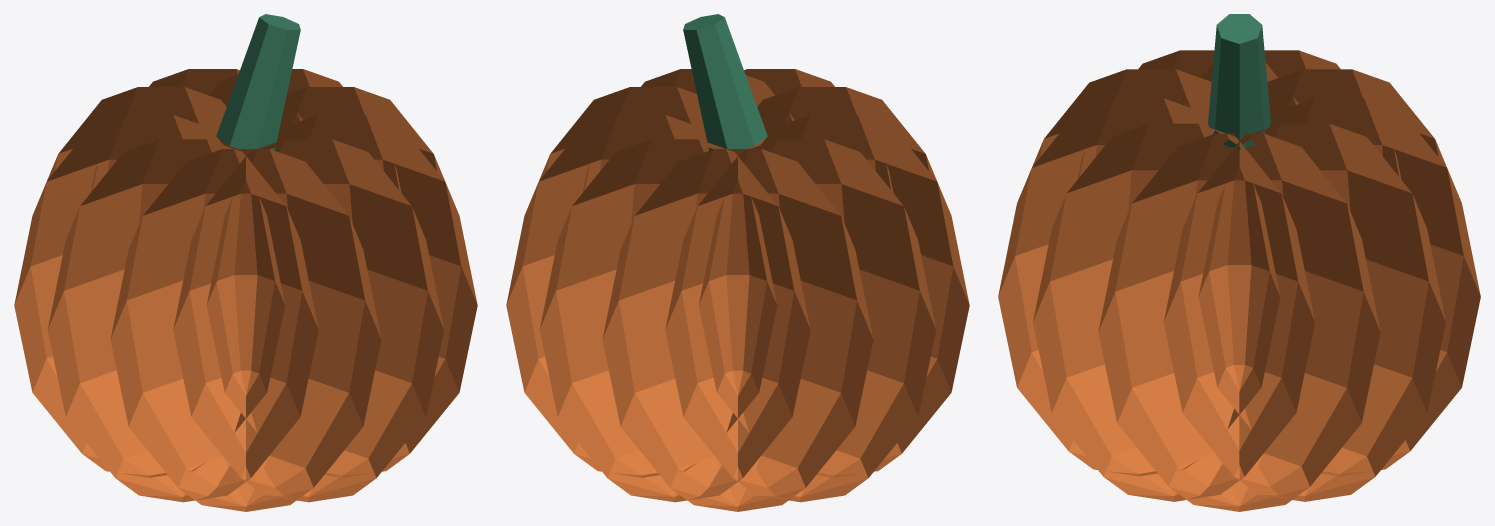
File: turning-seasons-pumpkin-f49cf0ec__2133.glb
3 renders of one model, left to right at view 1: azimuth 30°, elevation 25°; view 2: azimuth 150°, elevation 25°; view 3: azimuth 270°, elevation 25°, orthographic. The views are drawn at different scales.
Parts seen in each view (by area): view 1: pumpkin; view 2: pumpkin; view 3: pumpkin.
Part boxes in pixels (left/top/right/bottom): pumpkin: left=14, top=14, right=477, bottom=511; pumpkin: left=506, top=14, right=969, bottom=511; pumpkin: left=998, top=14, right=1480, bottom=511.
Bounding box in the file's own units: 0.514 × 0.547 × 0.5219.
